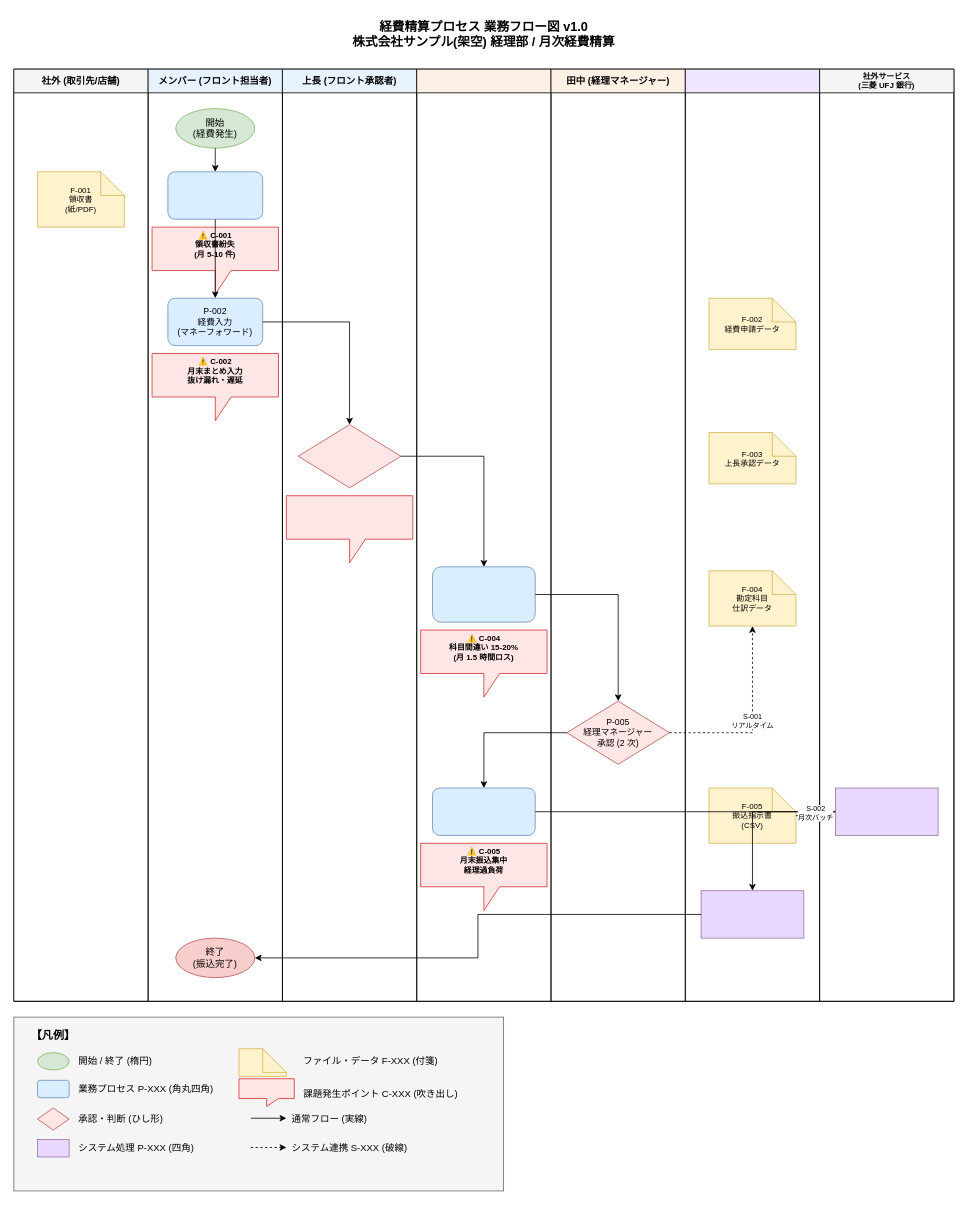
The diagram is 968 pixels wide and 1205 high, and some of its shapes have lost their labels. Here are the shapes that lost their labels. From the top down, the box of each, then its label:
(167, 171, 263, 219): P-001 経費発生・ 領収書受領
(297, 424, 401, 488): P-003 上長承認 (1 次)
(286, 495, 413, 563): ⚠️ C-003 承認遅延 (最大 2-3 週間)
(416, 68, 551, 1001): 佐藤 (経理担当)
(685, 68, 820, 1001): 社内システム (マネーフォワード経費 / 社内会計)
(432, 566, 535, 622): P-004 経理チェック (勘定科目 + 税区分)
(432, 787, 535, 835): P-006 振込データ作成 (CSV 生成)
(835, 787, 938, 835): P-007 銀行振込 (月末一括)
(700, 890, 804, 938): P-008 振込完了通知 (自動メール)
